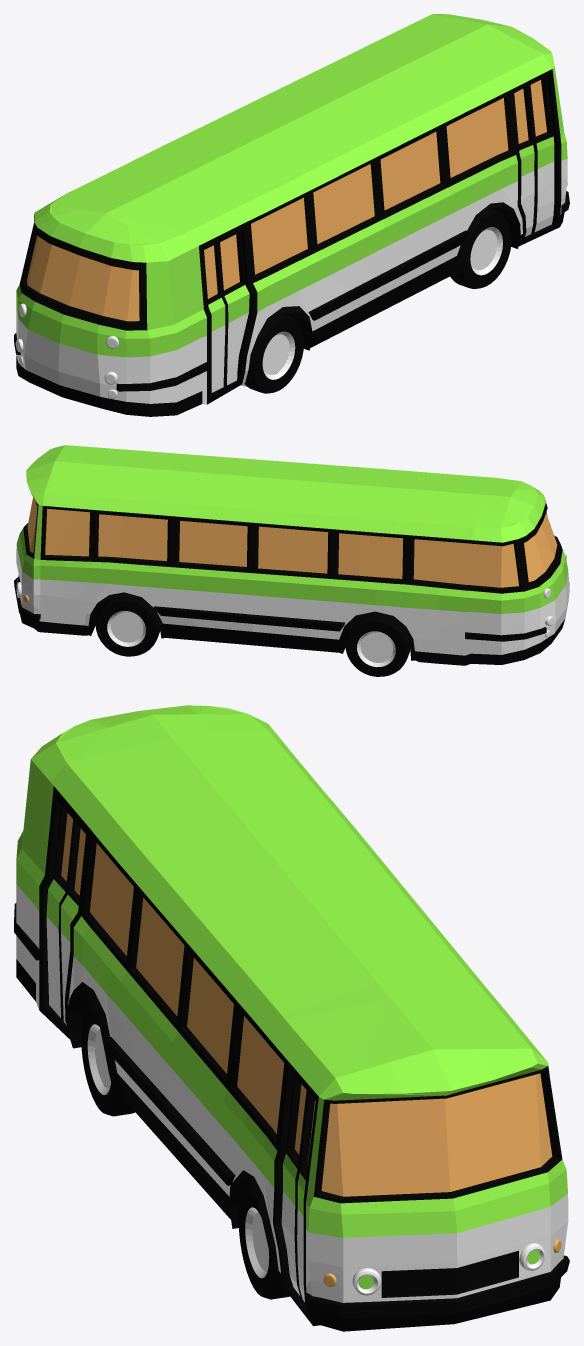
Rendered from ToyObject_188.fbx.
3 renders of one model, top to bottom at view 1: azimuth 30°, elevation 25°; view 2: azimuth 150°, elevation 25°; view 3: azimuth 270°, elevation 25°, orthographic. The views are drawn at different scales.
Visible parts, largest first — view 1: Object.021; view 2: Object.021; view 3: Object.021.
Boxes of the visible parts, x1,y1,x2,y2 form: Object.021: (14,14,569,416); Object.021: (14,445,569,676); Object.021: (14,705,569,1331).
Bounding box in the file's own units: 0.2262 × 0.0732 × 0.1273.
